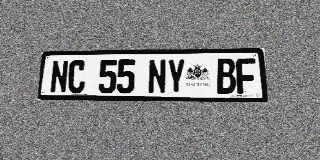5: (98, 59, 117, 93), (117, 59, 135, 94)
B: (216, 58, 236, 94)
C: (67, 60, 86, 93)
F: (236, 58, 257, 94)
N: (49, 60, 69, 93), (148, 59, 166, 94)
Y: (167, 59, 185, 94)
